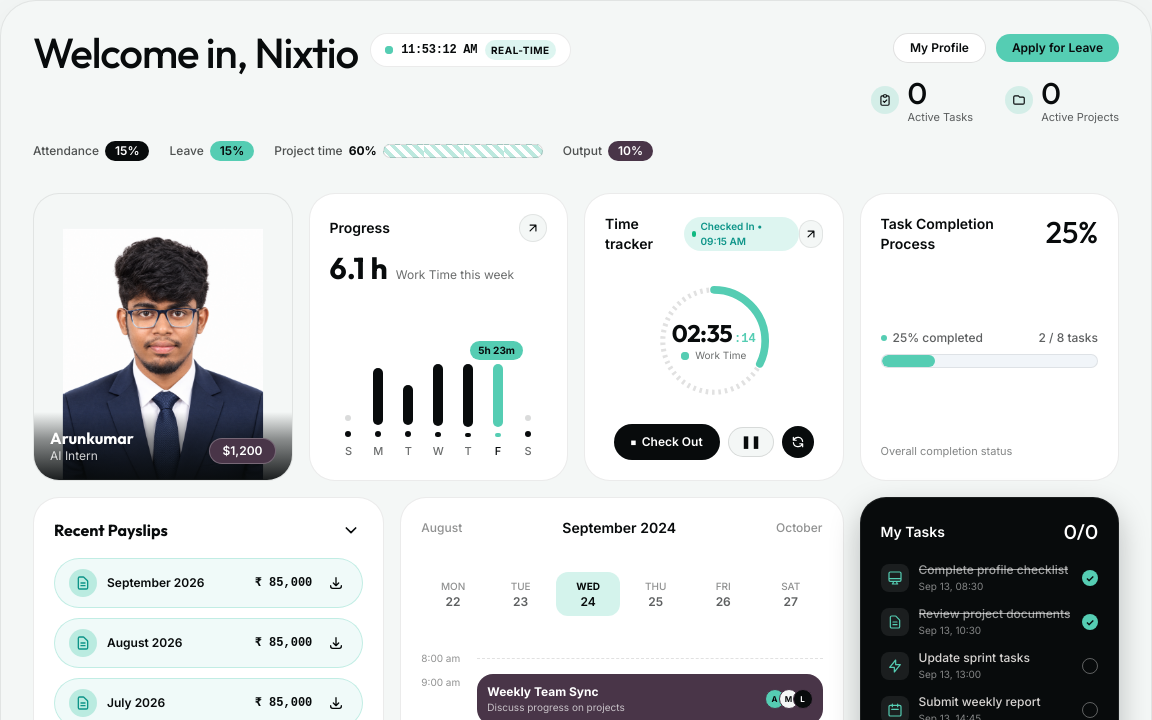
Test: Dashboard Task Completion & Progress Updates (Issue #4) › StaffDashboard updates Task Completion Process interactively when toggling tasks
This screenshot has width=1152, height=720.
expect the text with test id "task-completion-percentage" reads "25%": met, box [1046, 214, 1098, 250]
Click on "Update sprint tasks" to complete it
Click the text "Update sprint tasks" at (974, 658), box [918, 650, 1030, 666]
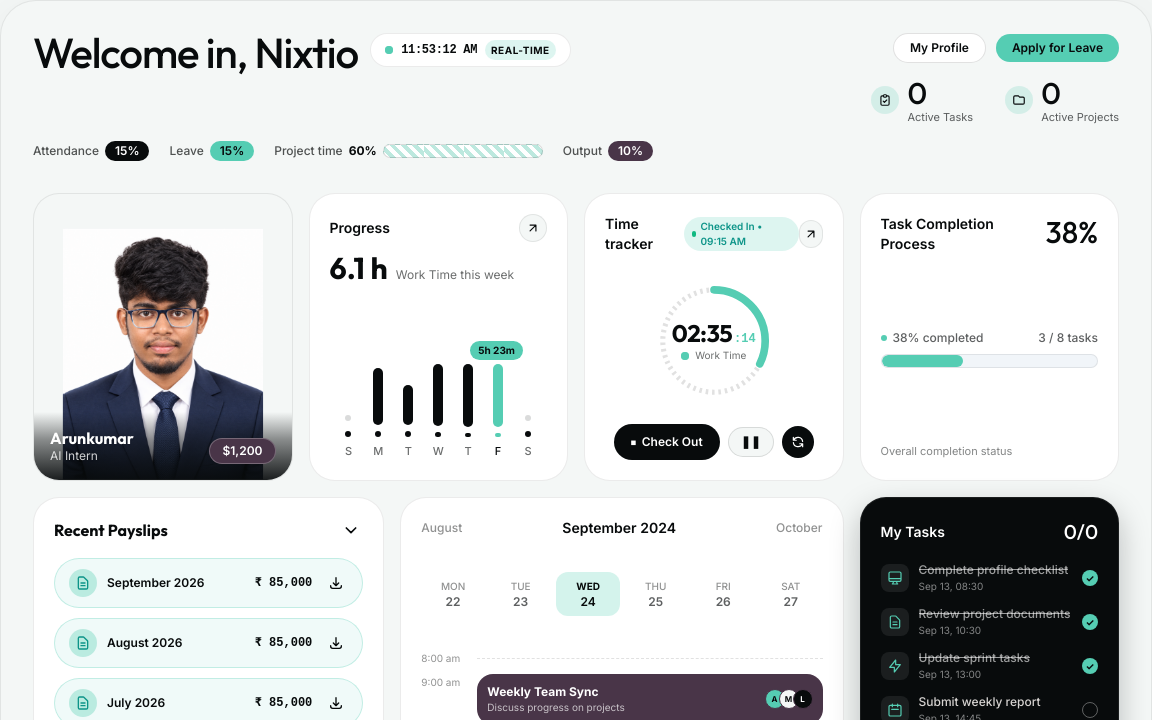
expect the text with test id "task-completion-percentage" reads "38%": met, box [1046, 214, 1098, 250]
expect the text "3 / 8 tasks" is shown: met, box [1038, 330, 1098, 346]
Toggle again to uncomplete
Click the text "Update sprint tasks" at (974, 658), box [918, 650, 1030, 666]
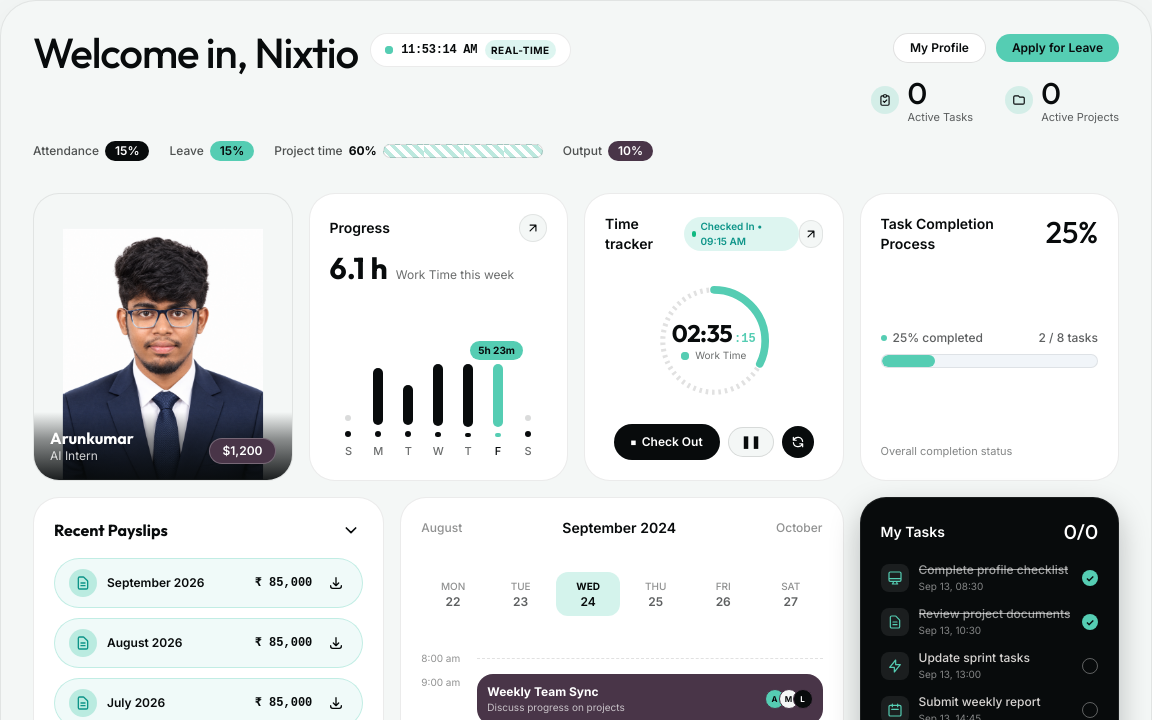
expect the text with test id "task-completion-percentage" reads "25%": met, box [1046, 214, 1098, 250]
